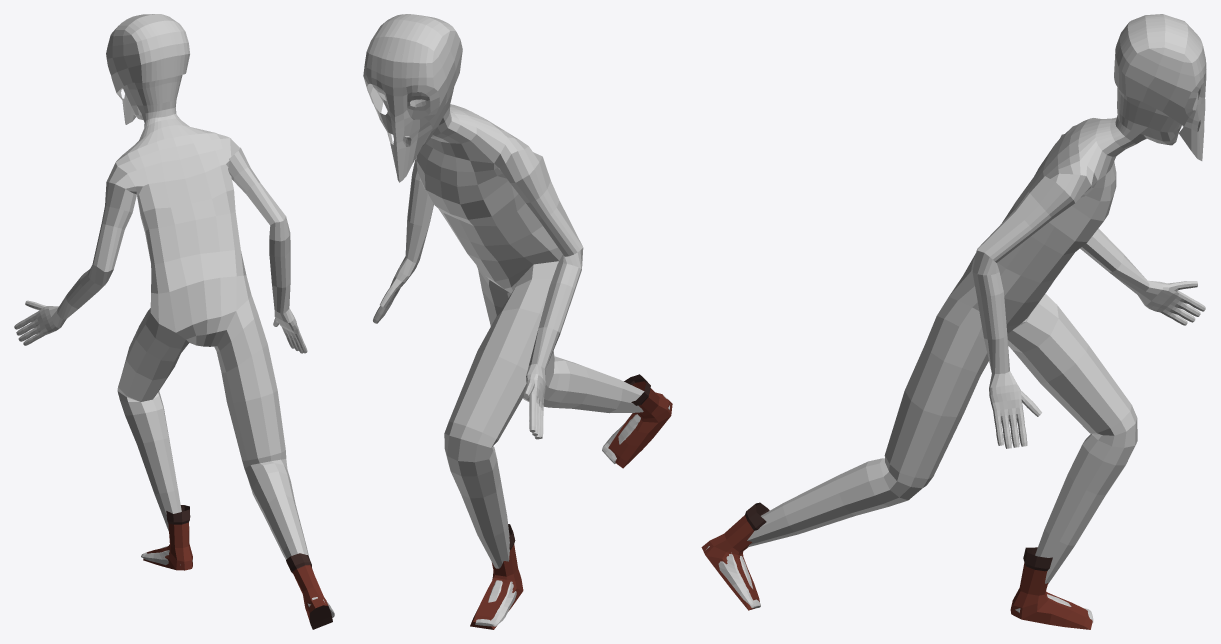
File: saltoadelante_000094.obj
3 views of the same model, side by side, from view 1: azimuth 30°, elevation 25°; view 2: azimuth 150°, elevation 25°; view 3: azimuth 270°, elevation 25° (orthographic). The views are drawn at different scales.
Parts seen in each view (by area): view 1: Plane.002_Plane.001, Plane.003, Plane.004; view 2: Plane.002_Plane.001, Plane.003, Plane.004; view 3: Plane.002_Plane.001, Plane.004, Plane.003.
Part boxes in pixels (bbox=[...]): Plane.002_Plane.001: bbox=[14, 14, 334, 617]; Plane.003: bbox=[286, 553, 332, 629]; Plane.004: bbox=[143, 505, 192, 570]; Plane.002_Plane.001: bbox=[363, 14, 669, 626]; Plane.003: bbox=[608, 374, 672, 468]; Plane.004: bbox=[470, 524, 523, 629]; Plane.002_Plane.001: bbox=[706, 14, 1206, 622]; Plane.004: bbox=[1010, 547, 1092, 629]; Plane.003: bbox=[701, 502, 769, 610].
Size of the model in its own units: 2.63 by 6.17 by 4.56.
